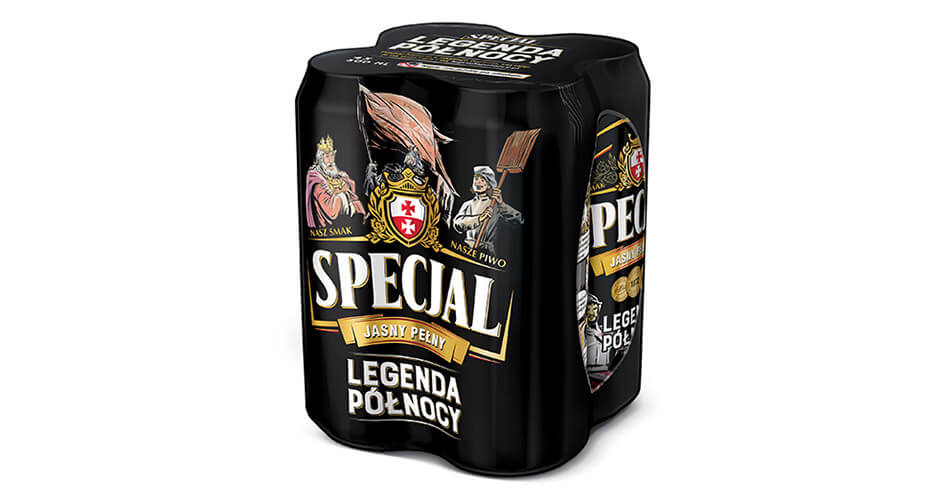specjal: (293, 22, 651, 480)
